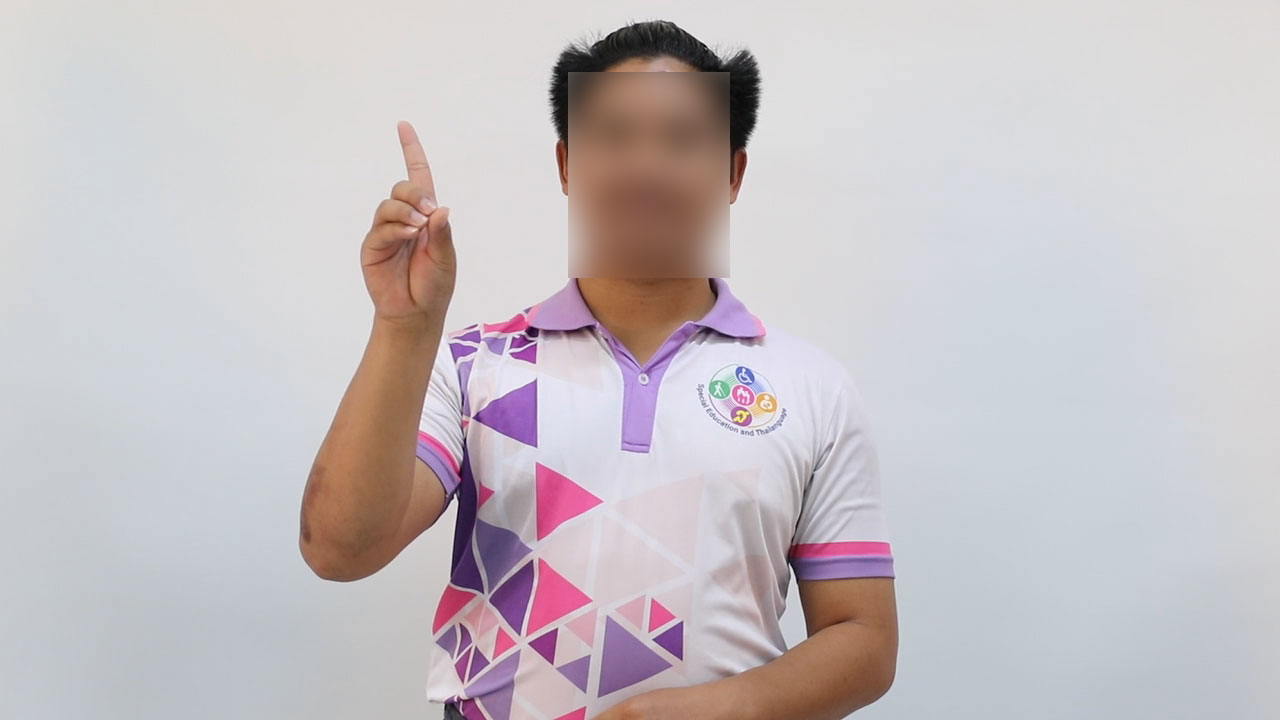dor: (345, 108, 474, 357)
